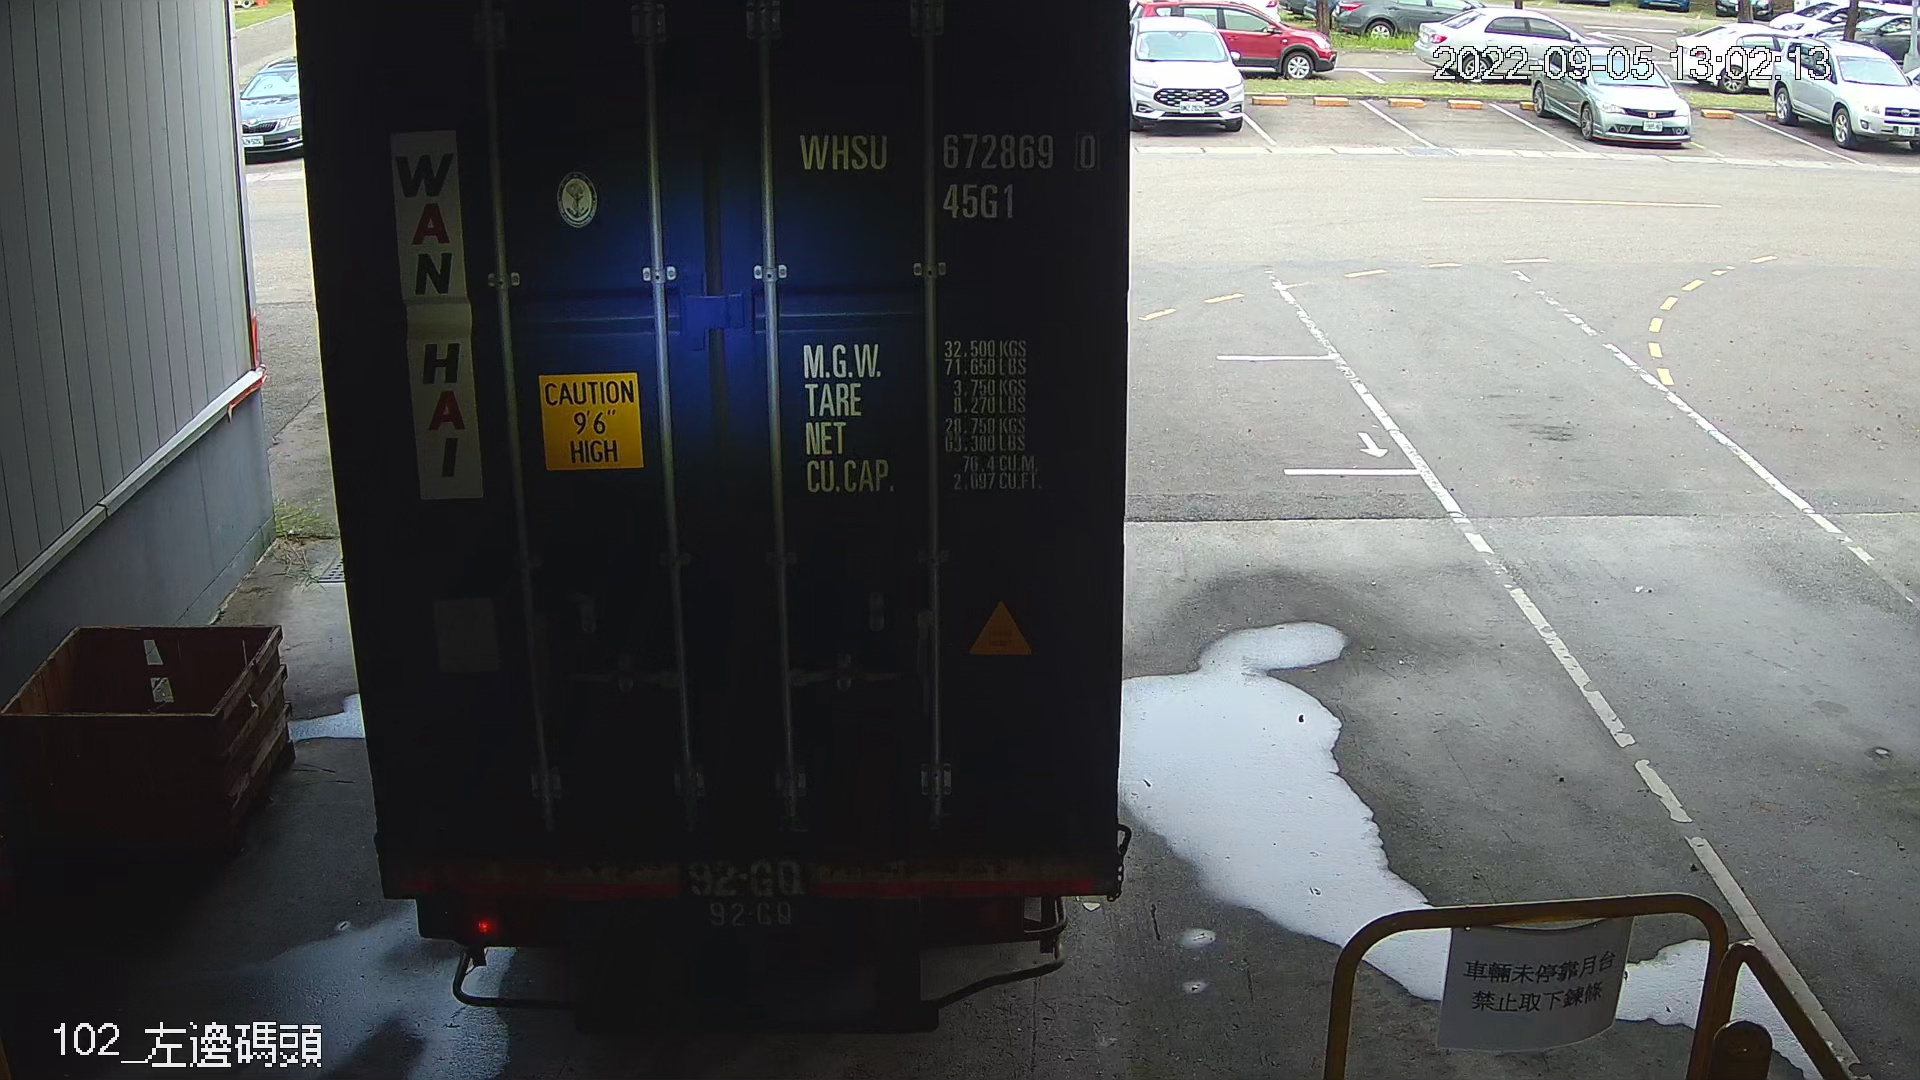container: (785, 111, 1112, 229)
